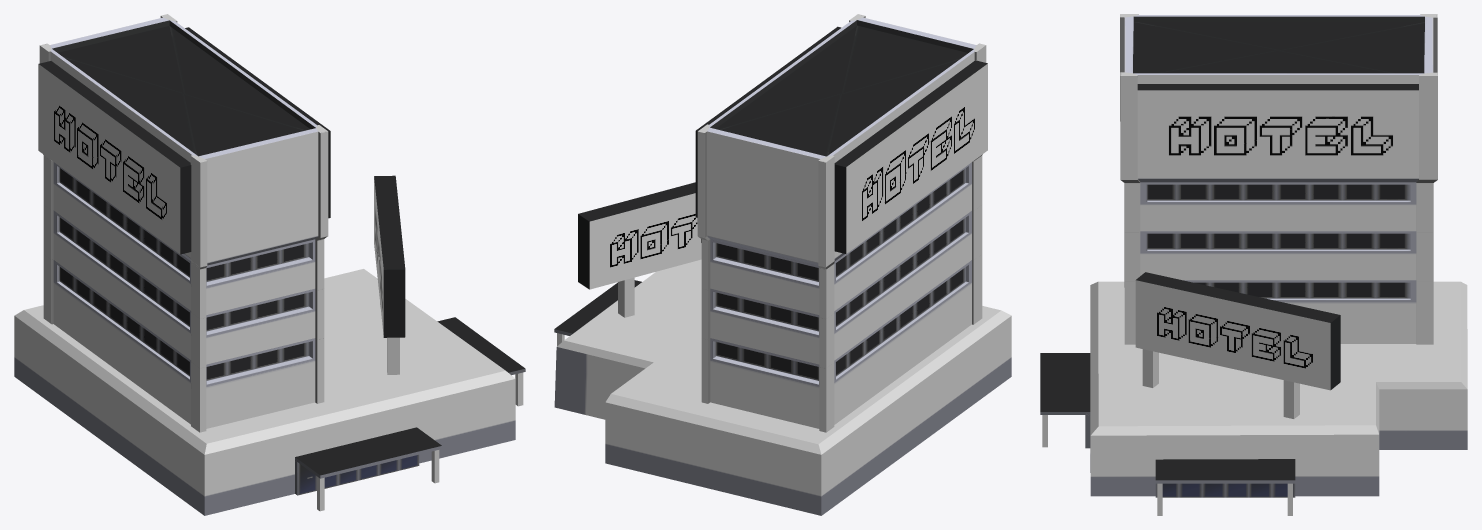
The model's file is hotel_1.glb.
The picture shows the model from 3 angles, left to right: view 1: azimuth 30°, elevation 25°; view 2: azimuth 150°, elevation 25°; view 3: azimuth 270°, elevation 25°; orthographic projection.
Visible parts, largest first — view 1: Hotel Small; view 2: Hotel Small; view 3: Hotel Small.
Part boxes in pixels (x1=…): Hotel Small: x1=14, y1=14, x2=525, y2=515; Hotel Small: x1=554, y1=14, x2=1011, y2=515; Hotel Small: x1=1040, y1=14, x2=1467, y2=515.
Size of the model in its own units: 1.1 by 1.01 by 1.16.
1 material, 1 textured.
